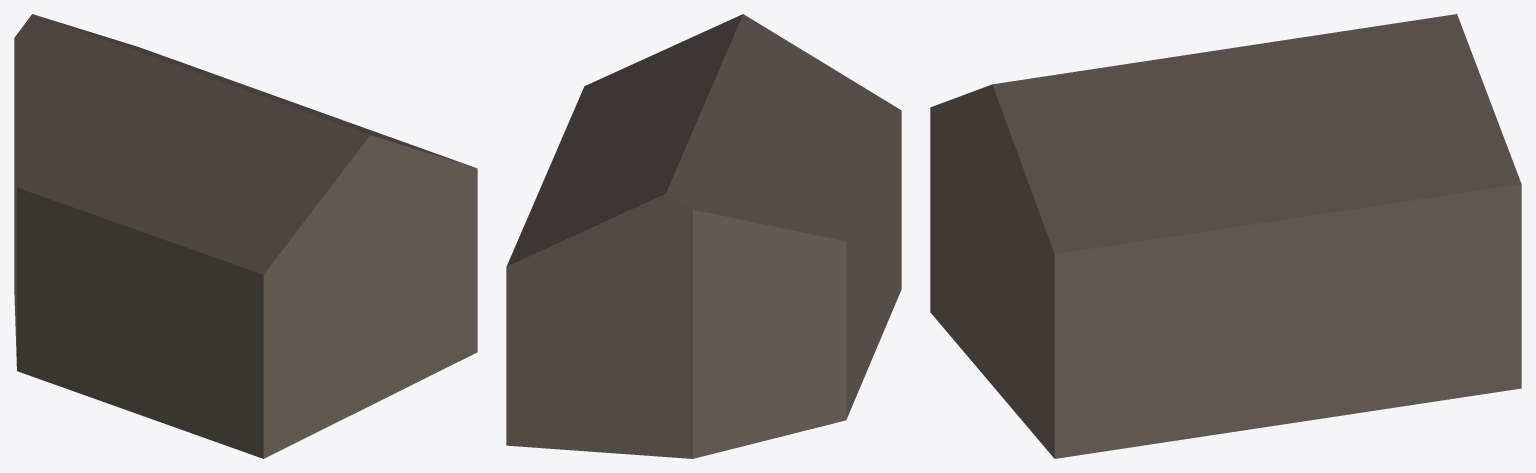
The picture shows the model from 3 angles, left to right: view 1: azimuth 30°, elevation 25°; view 2: azimuth 150°, elevation 25°; view 3: azimuth 270°, elevation 25°; orthographic projection. The views are drawn at different scales.
Visible parts, largest first — view 1: HP-w442042710; view 2: HP-w442042710; view 3: HP-w442042710.
Boxes of the visible parts, x1=… form: HP-w442042710: x1=14, y1=14, x2=477, y2=458; HP-w442042710: x1=506, y1=14, x2=901, y2=458; HP-w442042710: x1=930, y1=14, x2=1521, y2=458.
Bounding box in the file's own units: 18.7 × 13.26 × 23.58.
